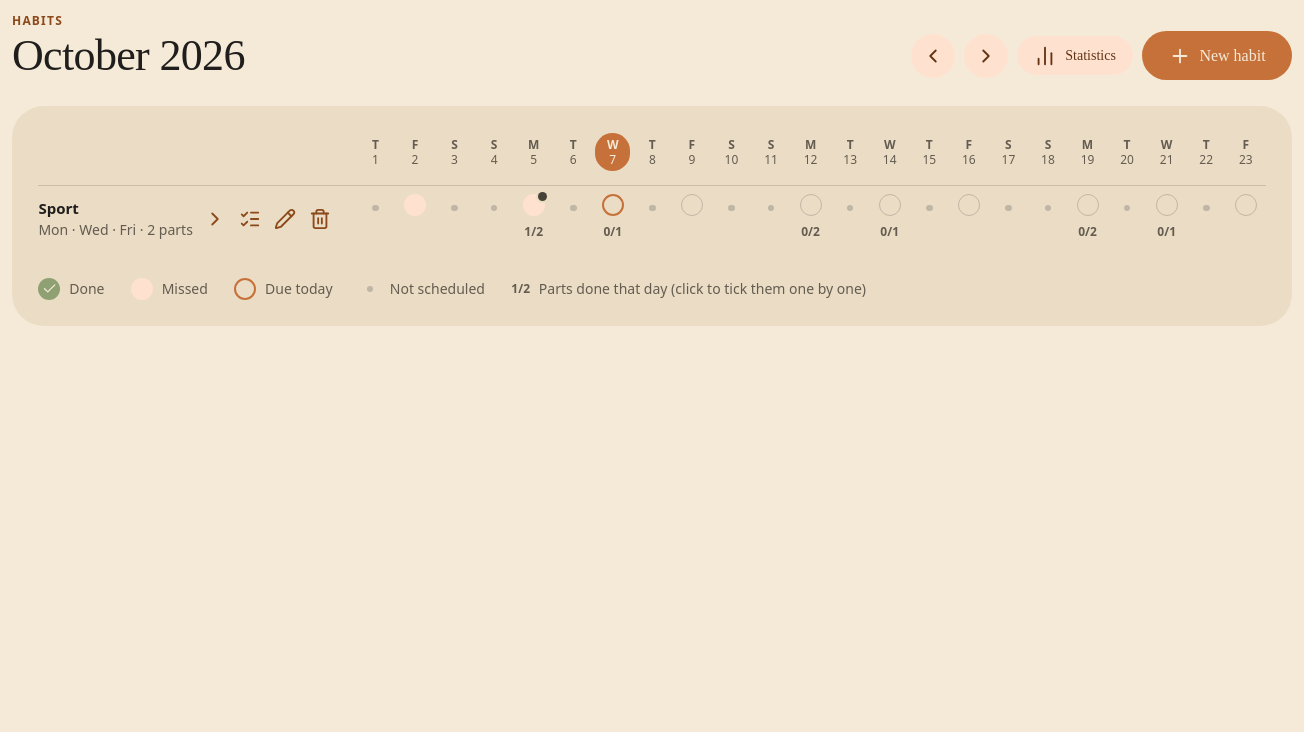
Scenario: notes on the parts of a habit › says so when the note could not be written, and shows what the server holds
Check: the table is shown, box [38, 133, 1266, 252]
Click the button named "Show parts of Sport": (215, 219) [197, 201, 232, 236]
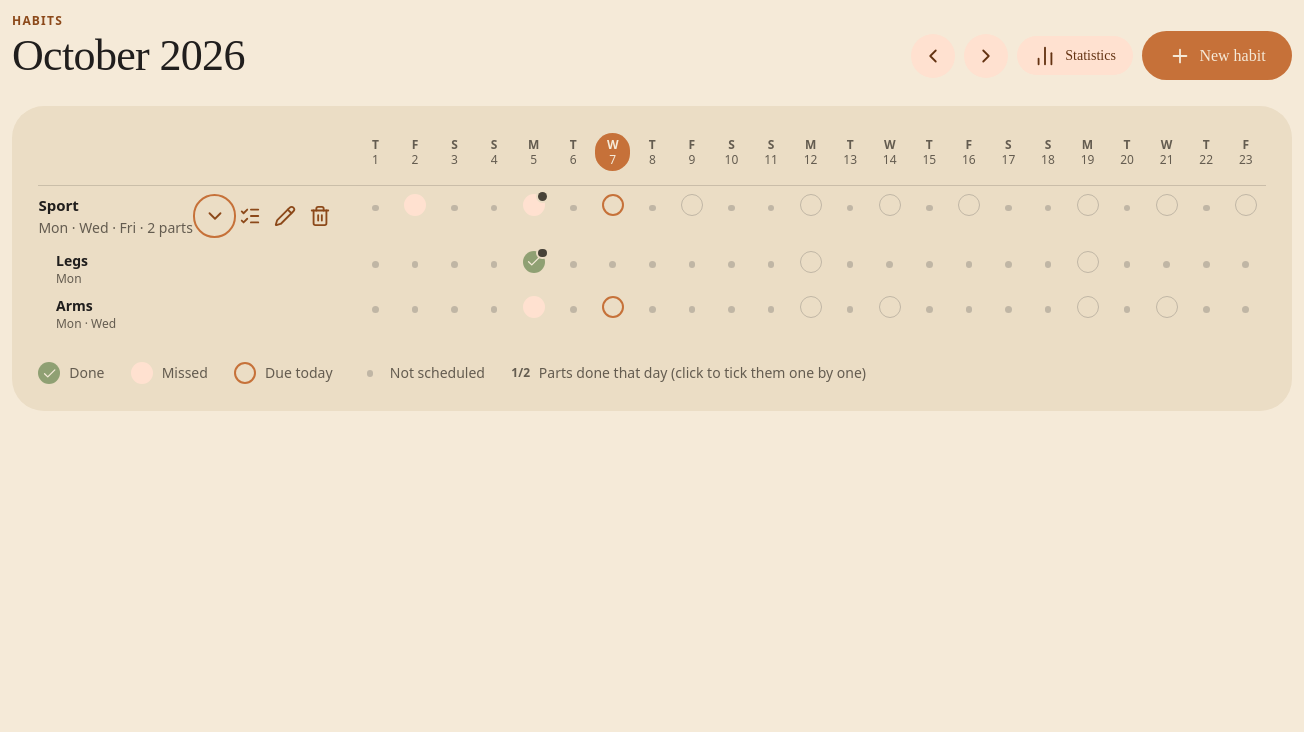
Hover over the button named "Sport: Arms, Wed 7 Oct": (613, 307) [602, 296, 624, 318]
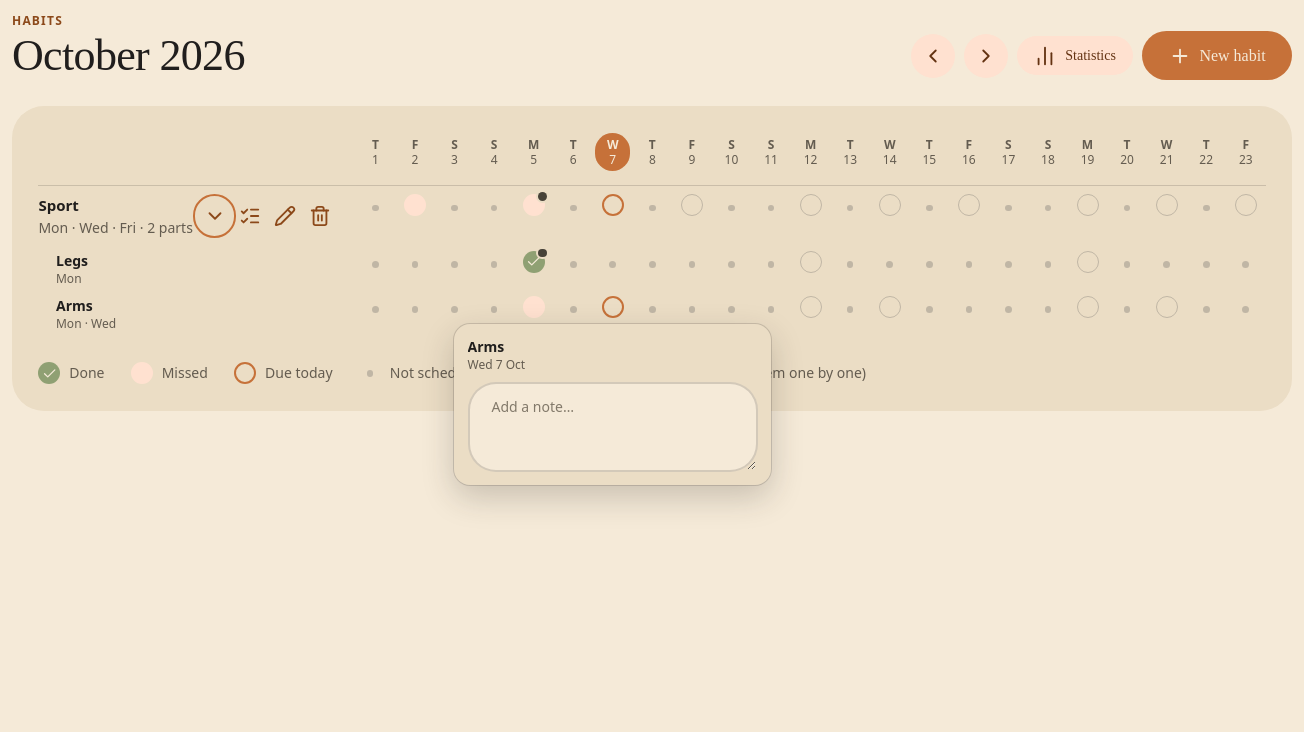
In the text box named "Note for Arms, Wed 7 Oct": (613, 427) [468, 382, 758, 472], type "lost?"
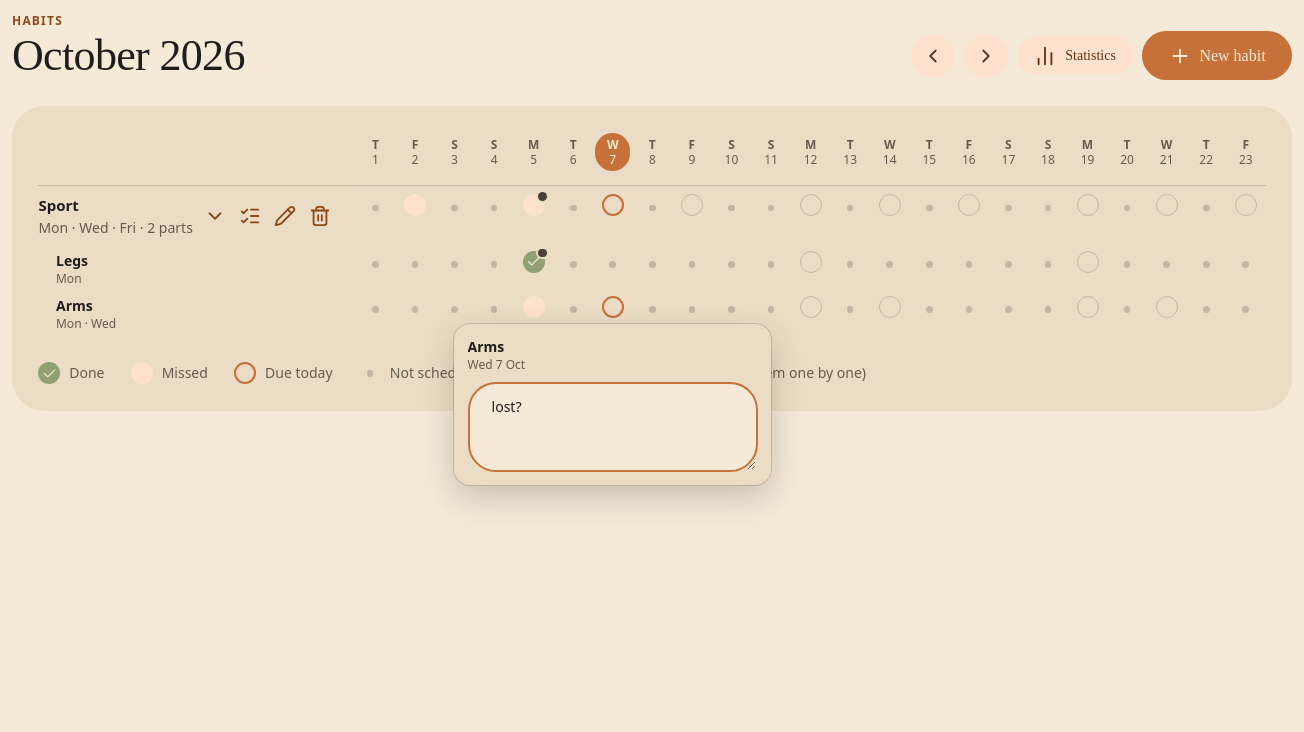
Press Tab
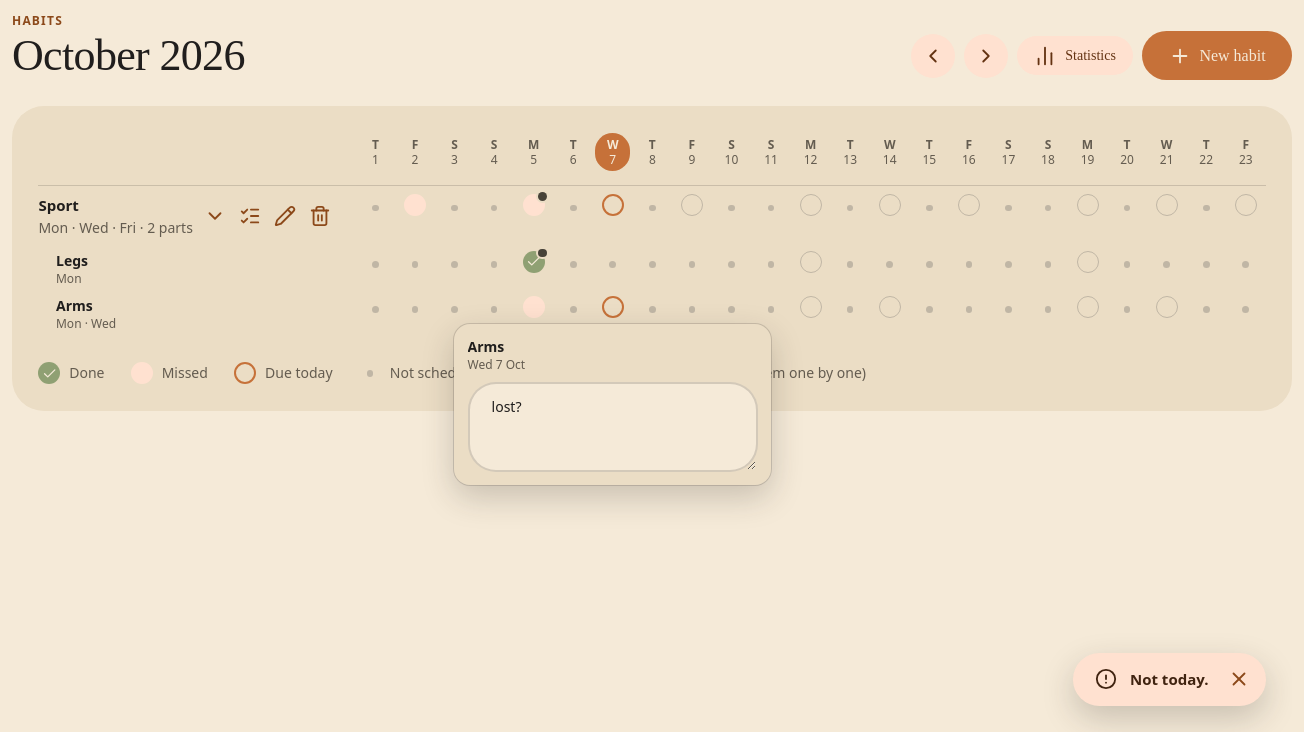
Check: the button named "Sport: Arms, Wed 7 Oct" is shown, box [602, 296, 624, 318]
Check: the message reads "Not today.", box [1130, 669, 1208, 689]
